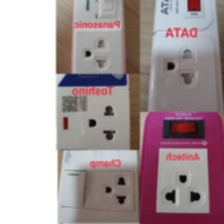three_eye_plug: (137, 109, 224, 223), (145, 0, 222, 112), (56, 146, 141, 224), (54, 71, 133, 153), (66, 0, 132, 75)
